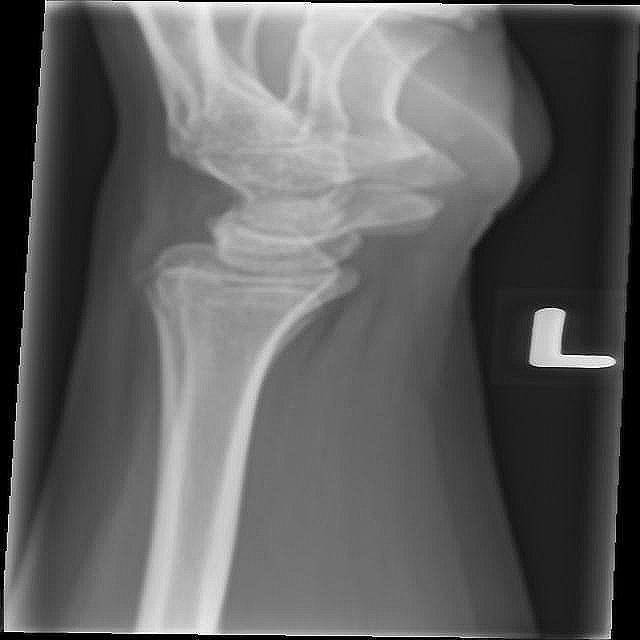bone: (314, 185, 452, 219)
